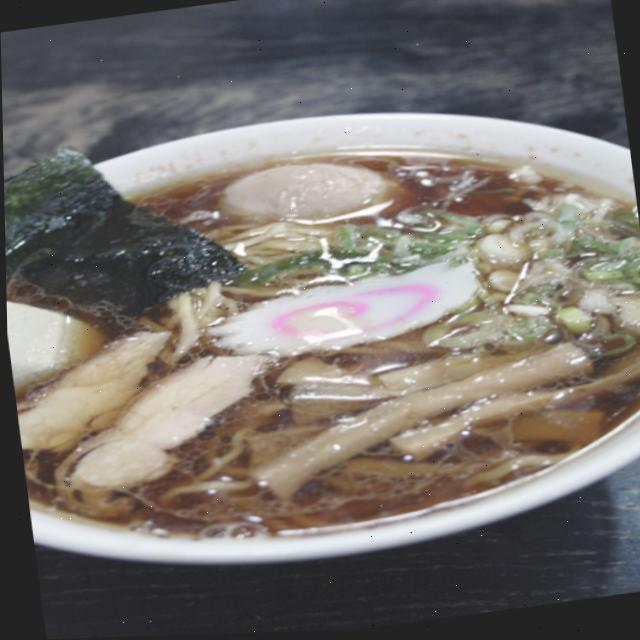面条主食: (2, 76, 640, 576)
